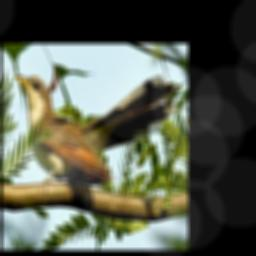Cuckoo: (13, 74, 178, 188)
